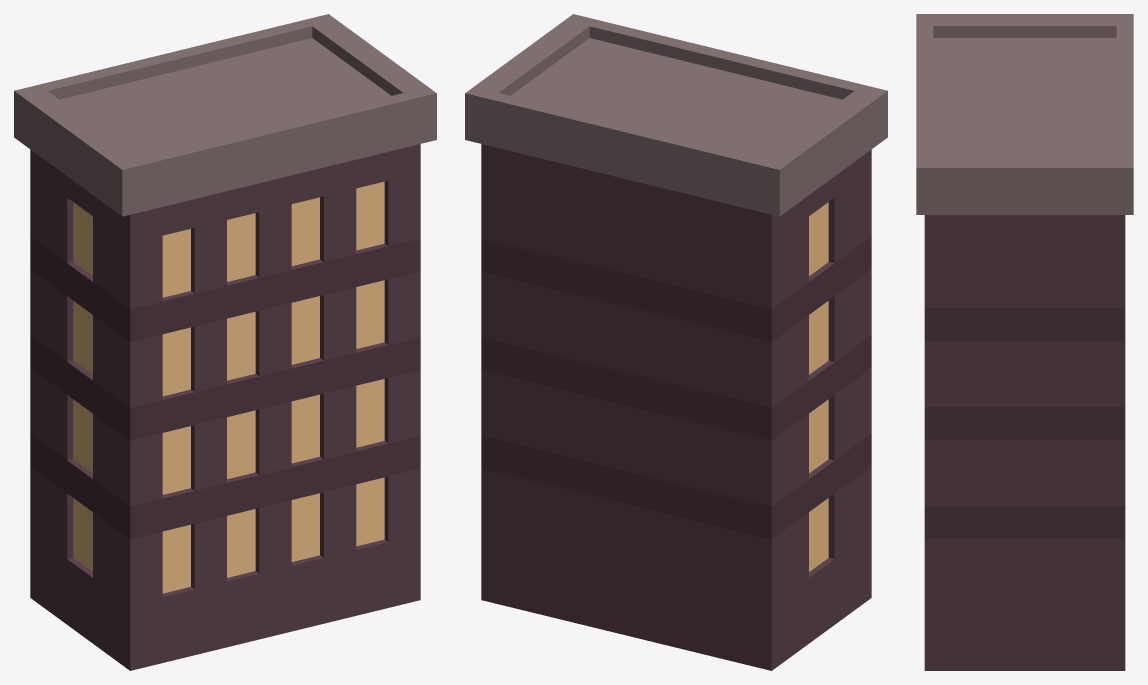
3 renders of one model, left to right at view 1: azimuth 30°, elevation 25°; view 2: azimuth 150°, elevation 25°; view 3: azimuth 270°, elevation 25°, orthographic.
Parts seen in each view (by area): view 1: Cube.007; view 2: Cube.007; view 3: Cube.007.
Boxes of the visible parts, box(x1,y1,x2,y2) form: Cube.007: box(14, 14, 436, 670); Cube.007: box(465, 14, 887, 670); Cube.007: box(916, 14, 1133, 670).
Size of the model in its own units: 1458 by 2245 by 869.
